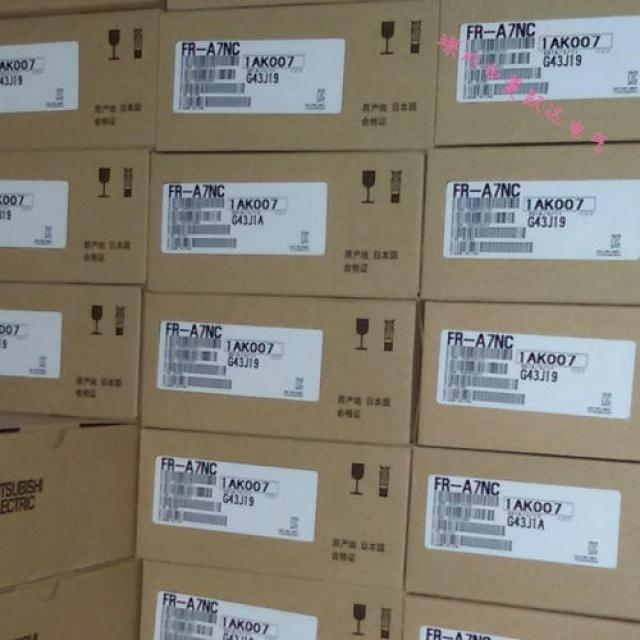box: (138, 429, 413, 591), (138, 294, 418, 447), (146, 151, 424, 302), (158, 3, 441, 151), (402, 446, 639, 622), (419, 142, 639, 307), (417, 302, 639, 462), (433, 0, 639, 146), (0, 413, 140, 590), (0, 9, 159, 148), (0, 148, 154, 287), (140, 560, 402, 638), (0, 284, 148, 421), (400, 592, 639, 637)
